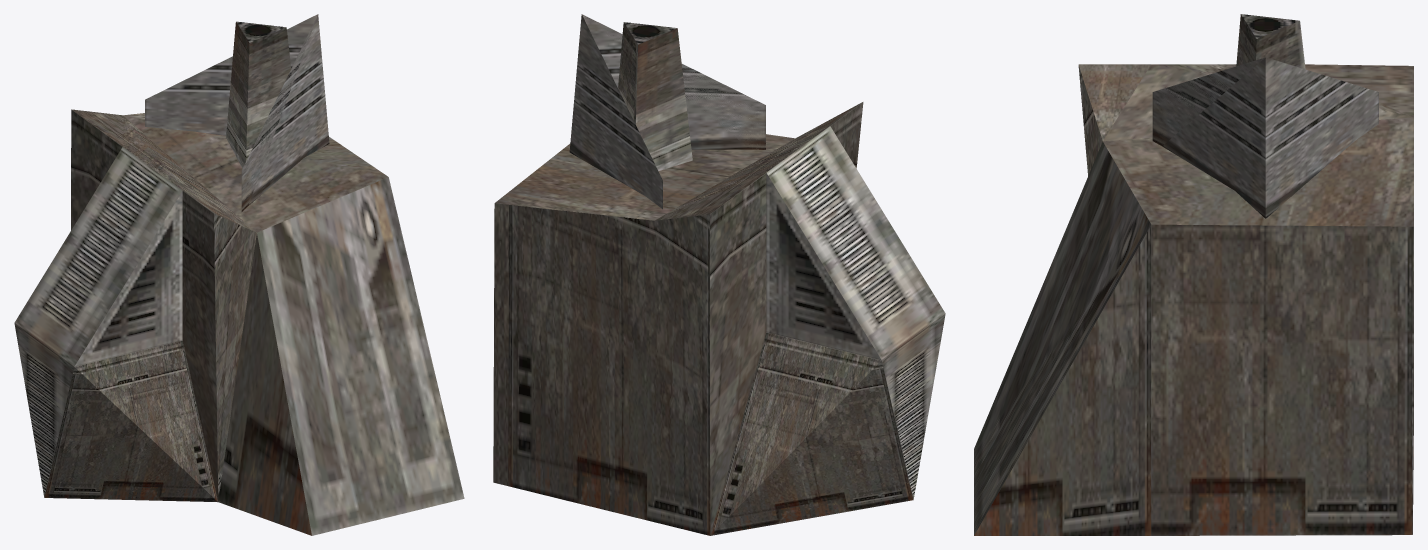
Rendered from ins_all_mobile_chem_refinery_l3.fbx.
3 views of the same model, side by side, from view 1: azimuth 30°, elevation 25°; view 2: azimuth 150°, elevation 25°; view 3: azimuth 270°, elevation 25° (orthographic). The views are drawn at different scales.
Parts seen in each view (by area): view 1: mesh_node; view 2: mesh_node; view 3: mesh_node.
Boxes of the visible parts, <box> form: mesh_node: <box>14,14,464,535</box>; mesh_node: <box>493,14,945,535</box>; mesh_node: <box>974,14,1413,535</box>.
Size of the model in its own units: 2.58 by 3.13 by 2.68.
